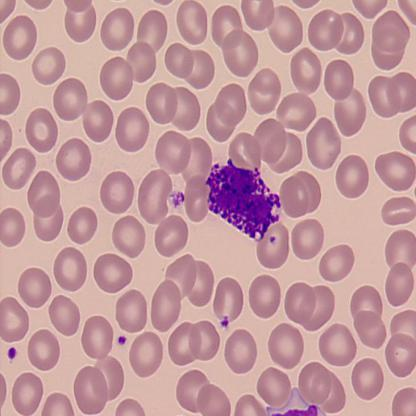Basophil: (204, 156, 284, 248)
